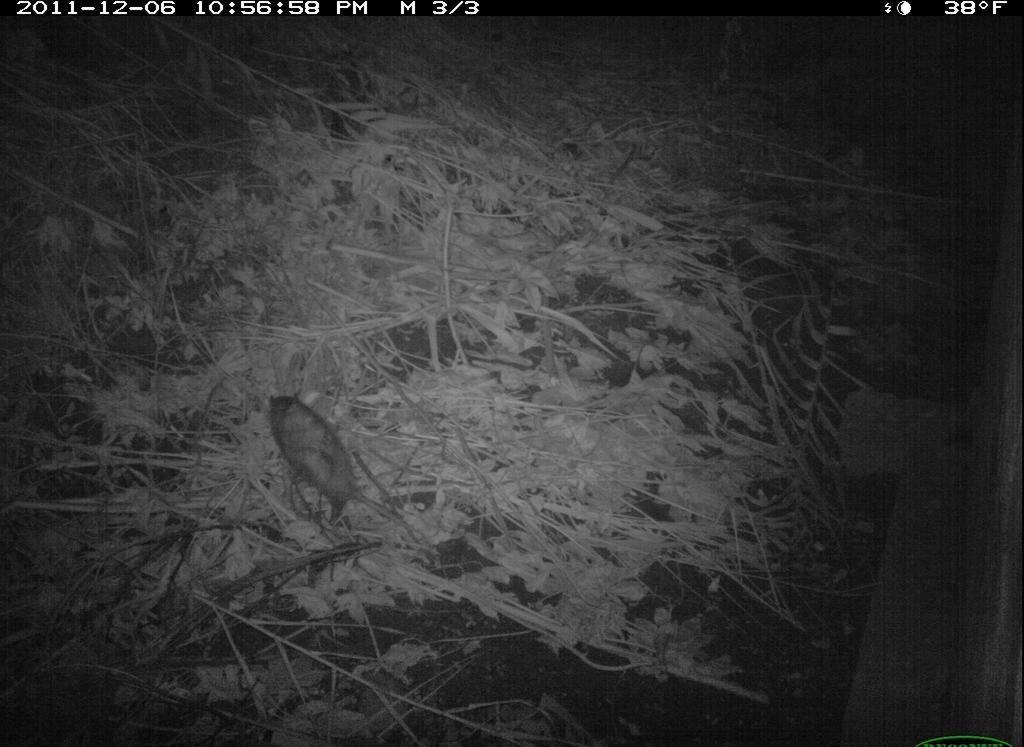opossum: (249, 376, 396, 559)
